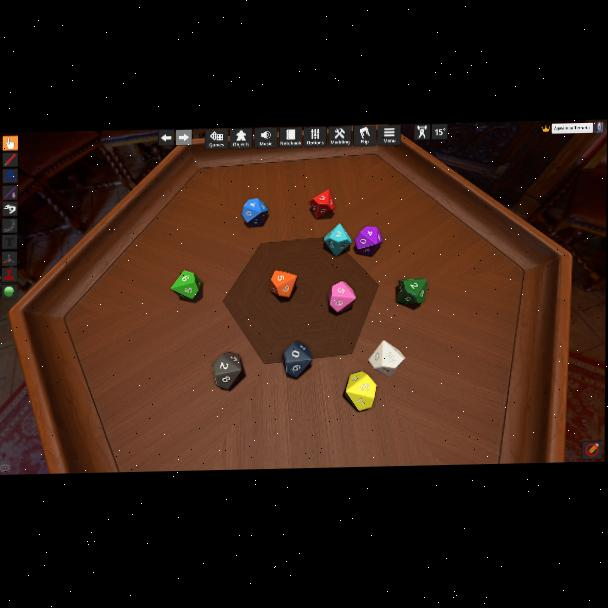d10: (344, 372, 376, 412), (369, 339, 403, 375), (212, 352, 243, 390), (394, 277, 429, 307), (283, 342, 311, 377), (171, 270, 202, 301), (323, 224, 351, 257), (327, 280, 354, 313), (355, 225, 382, 256), (241, 199, 268, 228), (270, 269, 296, 298), (310, 190, 335, 220)
